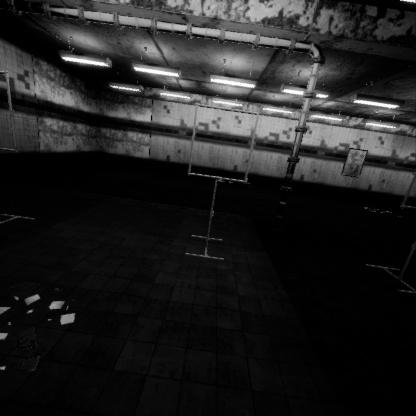gate: (188, 231, 265, 313)
